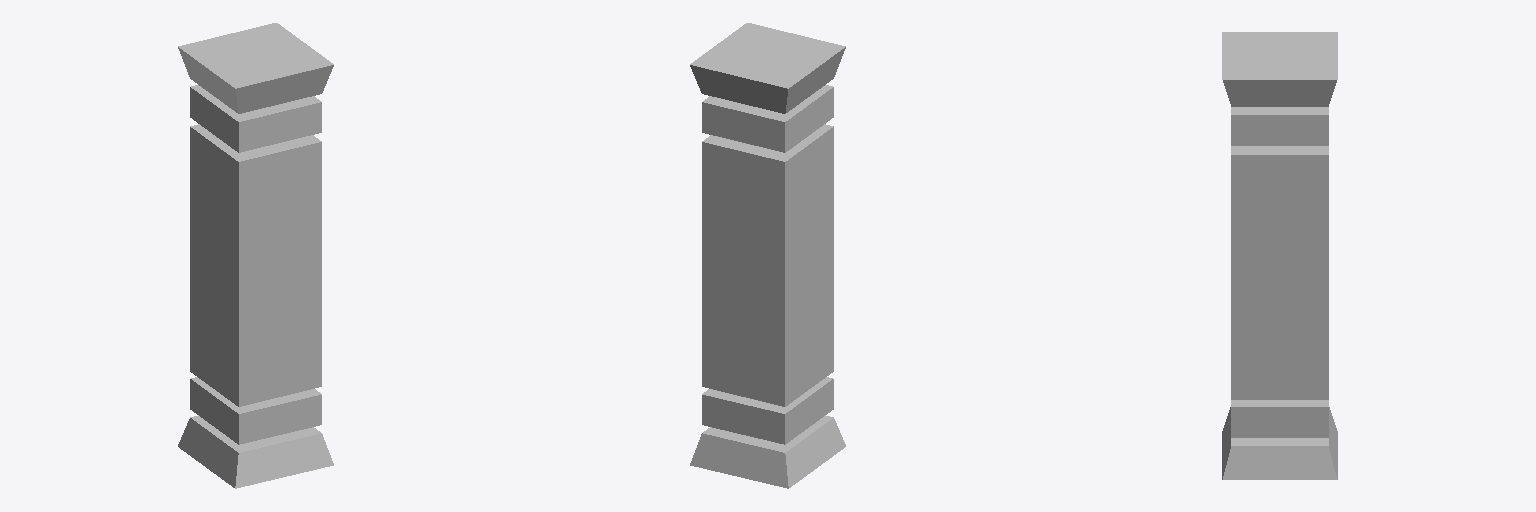
File: UnfairTotem.obj
3 renders of one model, left to right at view 1: azimuth 30°, elevation 25°; view 2: azimuth 150°, elevation 25°; view 3: azimuth 270°, elevation 25°, orthographic.
Visible parts, largest first — view 1: Cube.002, Cube.001, Cube.004, Cube, Cube.003; view 2: Cube.002, Cube.001, Cube.004, Cube, Cube.003; view 3: Cube.002, Cube.001, Cube.004, Cube, Cube.003.
Part boxes in pixels (bbox=[...]): Cube.002: bbox=[190, 124, 321, 406]; Cube.001: bbox=[178, 23, 333, 113]; Cube.004: bbox=[178, 415, 333, 488]; Cube: bbox=[190, 85, 321, 152]; Cube.003: bbox=[190, 377, 321, 444]; Cube.002: bbox=[702, 124, 833, 406]; Cube.001: bbox=[690, 23, 845, 113]; Cube.004: bbox=[690, 415, 845, 488]; Cube: bbox=[702, 85, 833, 152]; Cube.003: bbox=[702, 377, 833, 444]; Cube.002: bbox=[1231, 146, 1328, 399]; Cube.001: bbox=[1222, 32, 1337, 106]; Cube.004: bbox=[1222, 407, 1337, 479]; Cube: bbox=[1231, 107, 1328, 145]; Cube.003: bbox=[1231, 400, 1328, 437].
Size of the model in its own units: 2.64 by 10.2 by 2.66.